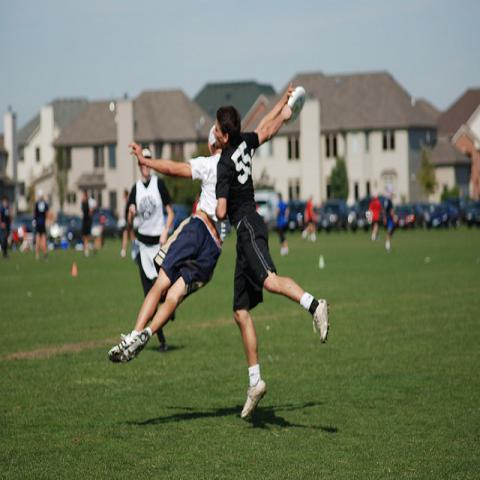car: (347, 197, 375, 234), (317, 200, 348, 233), (428, 202, 461, 230), (90, 208, 117, 240), (58, 215, 84, 248), (394, 206, 425, 228), (288, 202, 308, 231), (12, 216, 35, 232), (465, 202, 479, 226)
